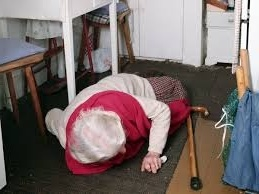fall: (45, 67, 189, 172)
